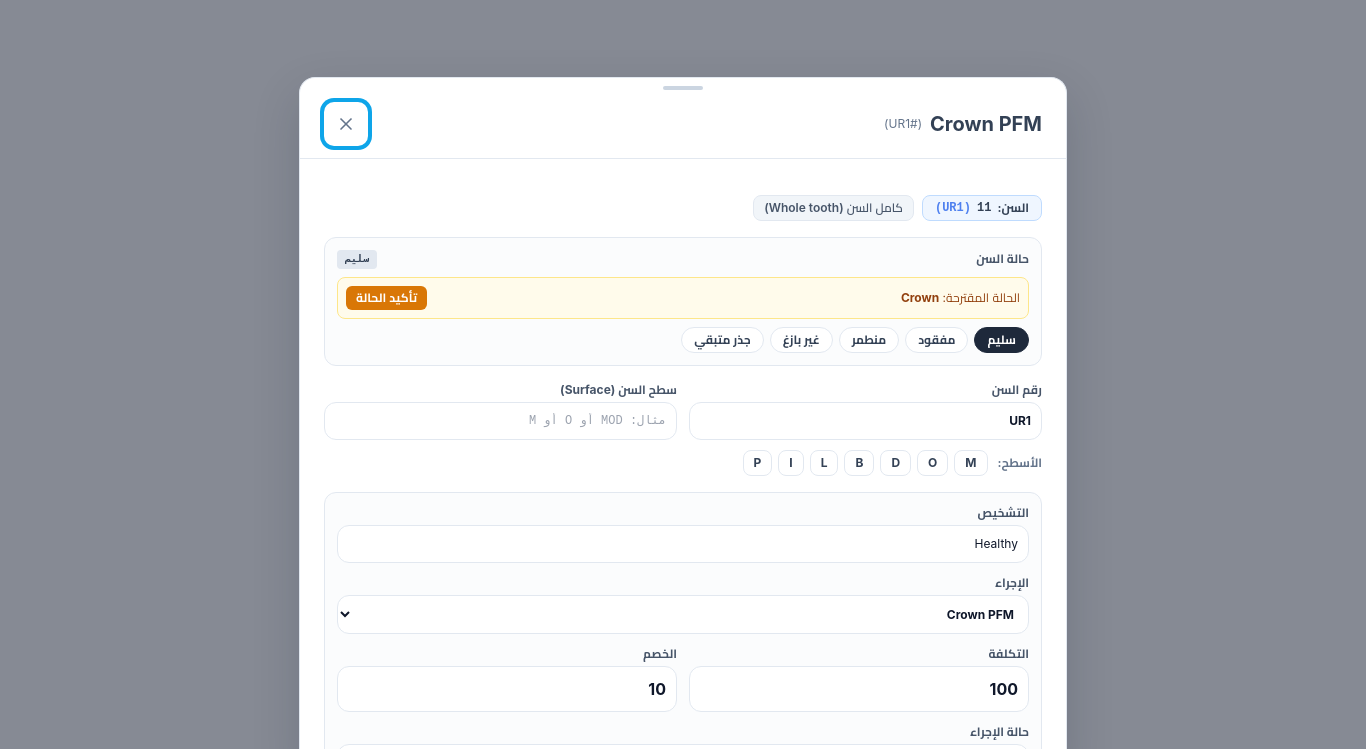
Scenario: QuickTreatmentSheet Unified Specification (D1–D4 & F1–F10) › 11. displays condition suggestion and confirms only upon doctor action
Expected: the element with test id "condition-suggestion-banner" is shown, top-left (337, 277), bottom-right (1029, 319)
Expected: the element with test id "condition-suggestion-banner" shows "الحالة المقترحة:", top-left (943, 290), bottom-right (1020, 305)
Click the button "تأكيد الحالة". click: (387, 298)
box: top-left (346, 286), bottom-right (427, 310)
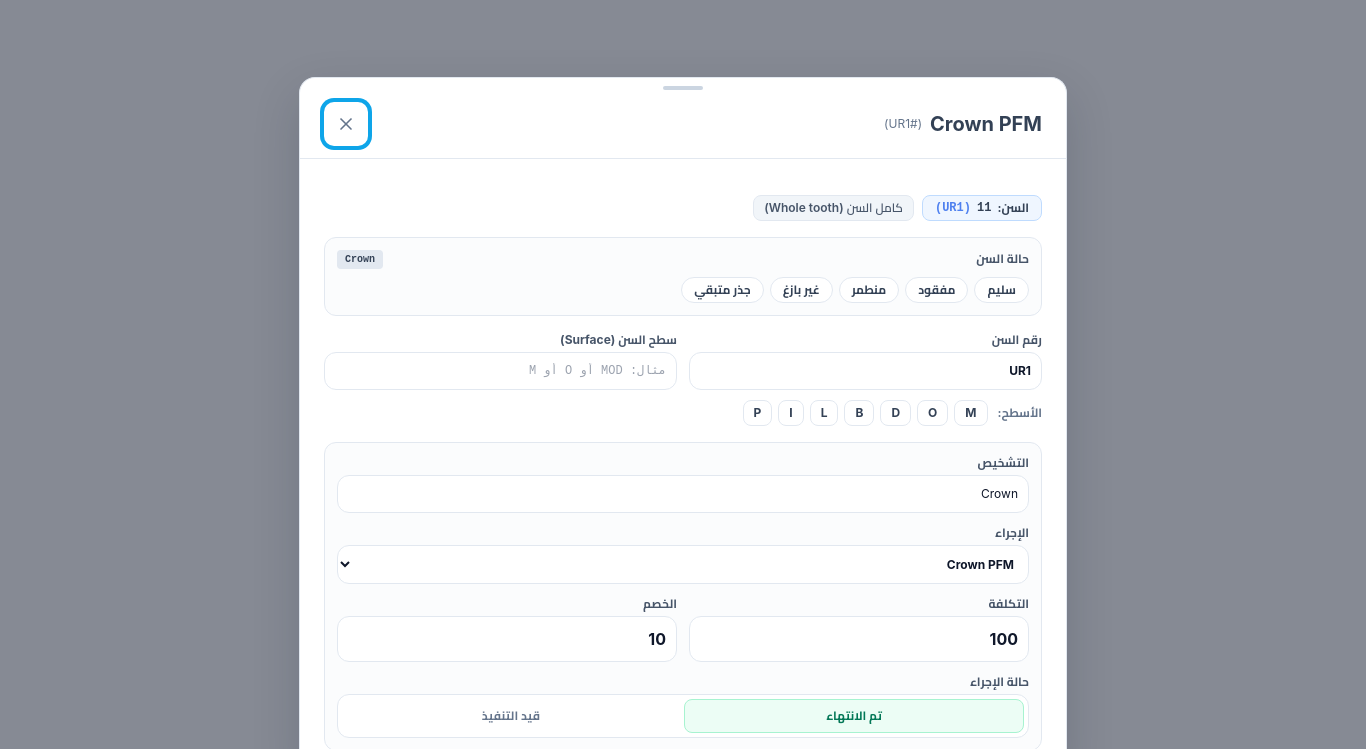
Now the element with test id "condition-suggestion-banner" is gone
